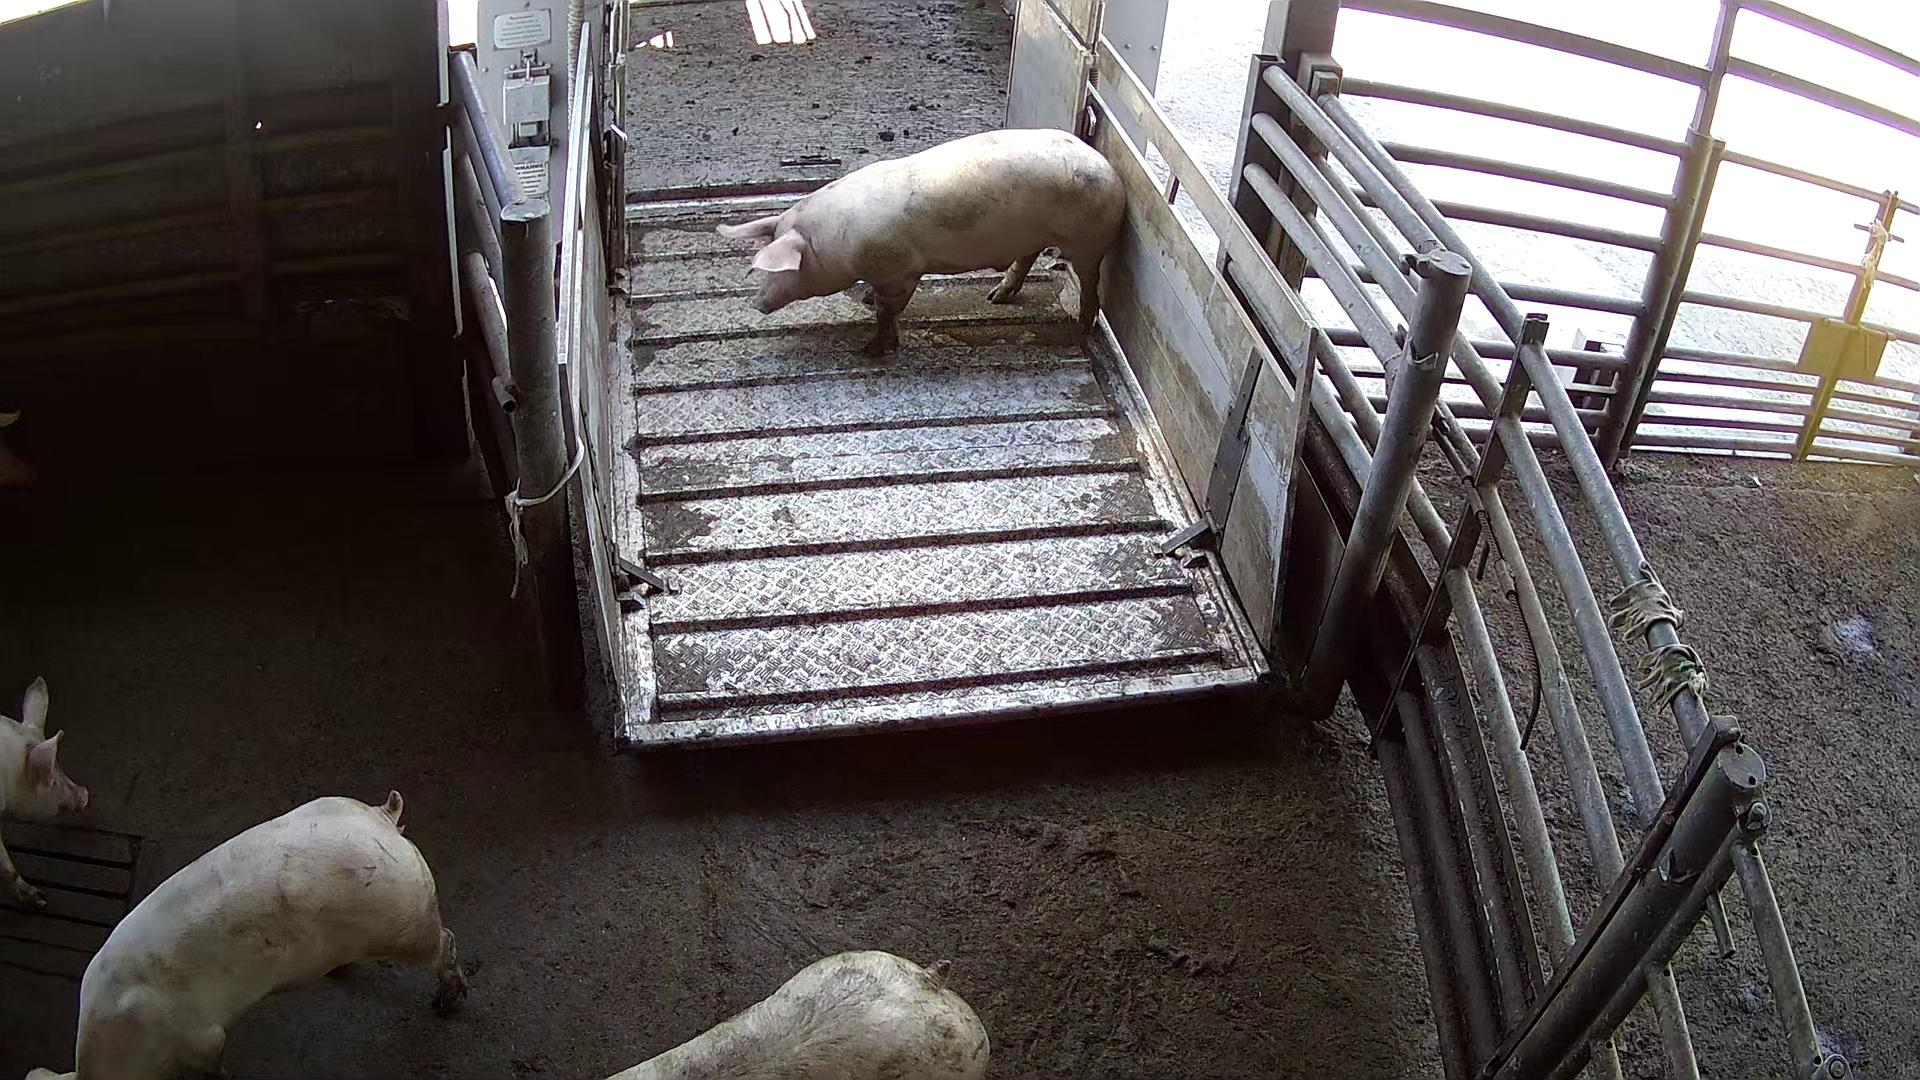Pig: (71, 791, 465, 1080), (716, 128, 1126, 353), (609, 952, 990, 1080), (0, 676, 86, 819), (0, 843, 42, 907)
